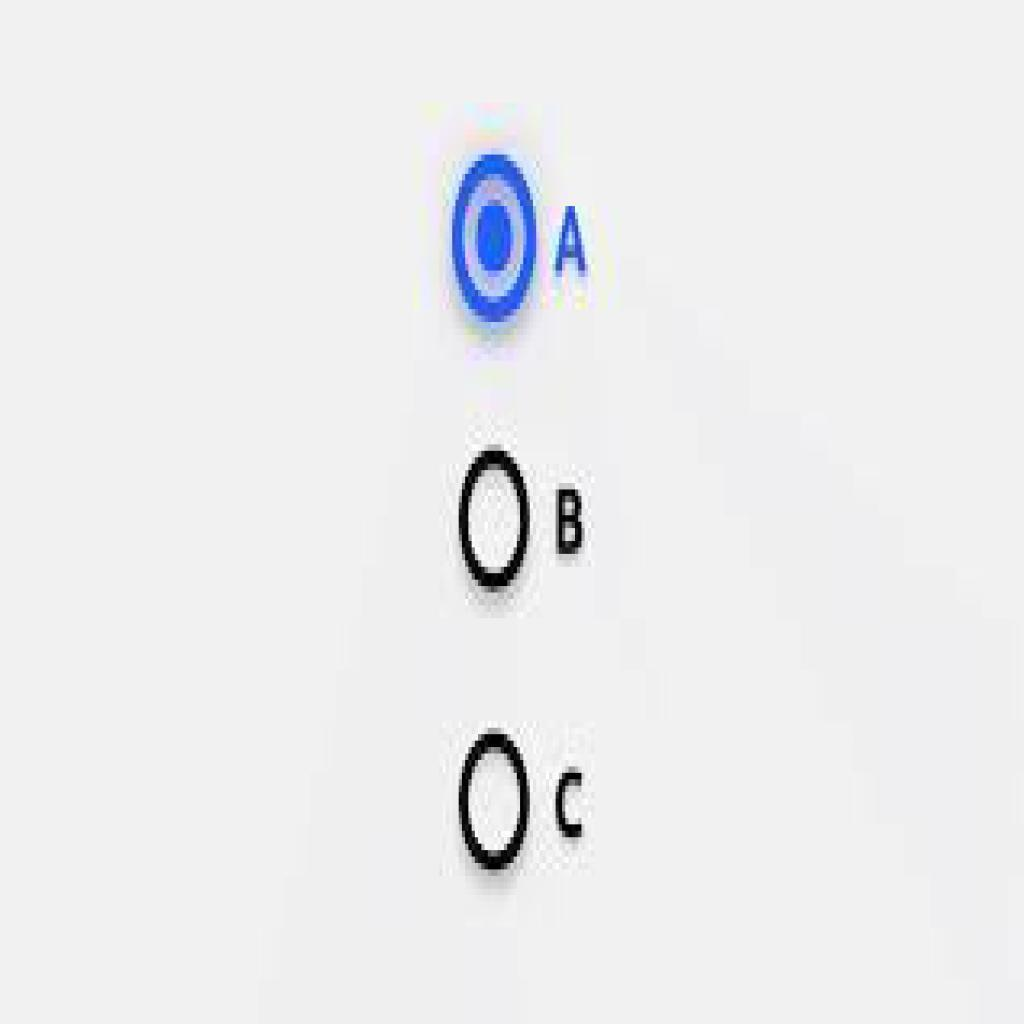radio: (441, 149, 544, 324), (451, 445, 534, 591), (456, 729, 534, 877)
